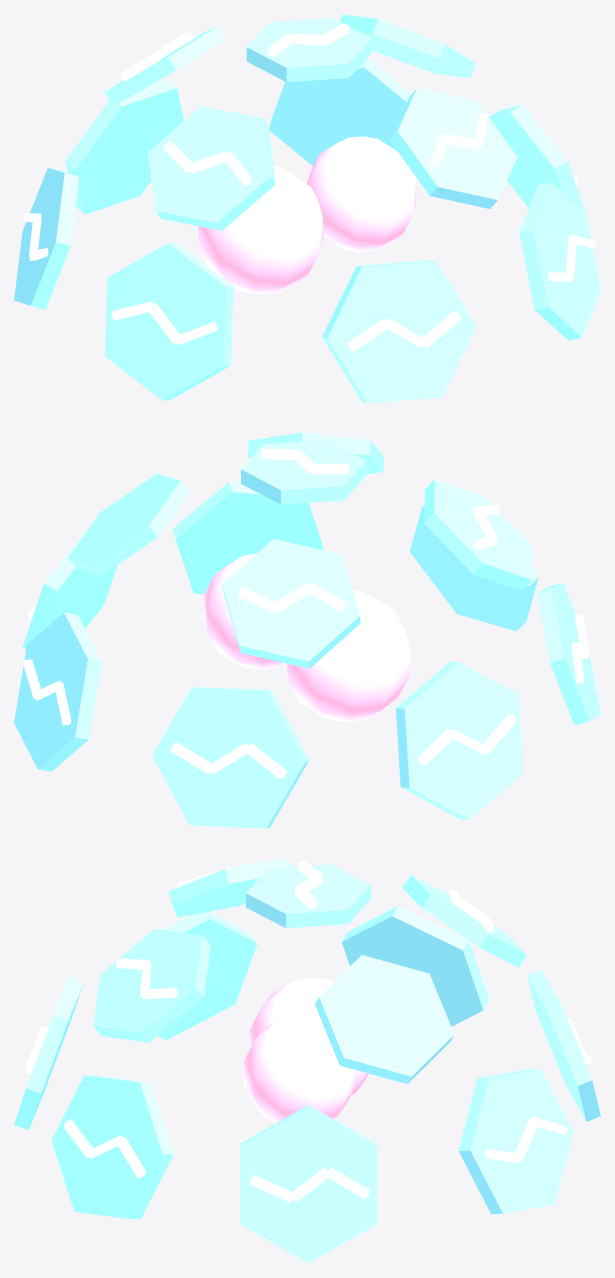
File: elite.glb
The picture shows the model from 3 angles, top to bottom: view 1: azimuth 30°, elevation 25°; view 2: azimuth 150°, elevation 25°; view 3: azimuth 270°, elevation 25°; orthographic projection.
Parts seen in each view (by area): view 1: elite_barrier, elite_cores, elite_crack_2, elite_crack_3, elite_crack_1; view 2: elite_barrier, elite_cores, elite_crack_2, elite_crack_1, elite_crack_3; view 3: elite_barrier, elite_cores, elite_crack_2, elite_crack_3, elite_crack_1.
Boxes of the visible parts, bbox=[...] form: elite_barrier: bbox=[14, 14, 600, 403]; elite_cores: bbox=[198, 136, 416, 294]; elite_crack_2: bbox=[164, 23, 461, 351]; elite_crack_3: bbox=[111, 113, 596, 345]; elite_crack_1: bbox=[23, 31, 578, 260]; elite_barrier: bbox=[14, 432, 600, 828]; elite_cores: bbox=[204, 553, 410, 722]; elite_crack_2: bbox=[23, 448, 499, 725]; elite_crack_1: bbox=[27, 583, 516, 765]; elite_crack_3: bbox=[170, 436, 589, 779]; elite_barrier: bbox=[14, 857, 600, 1263]; elite_cores: bbox=[244, 978, 368, 1123]; elite_crack_2: bbox=[25, 861, 567, 1162]; elite_crack_3: bbox=[63, 958, 590, 1177]; elite_crack_1: bbox=[249, 890, 493, 1202].
Bounding box in the file's own units: 2.21 × 1.09 × 2.23.
